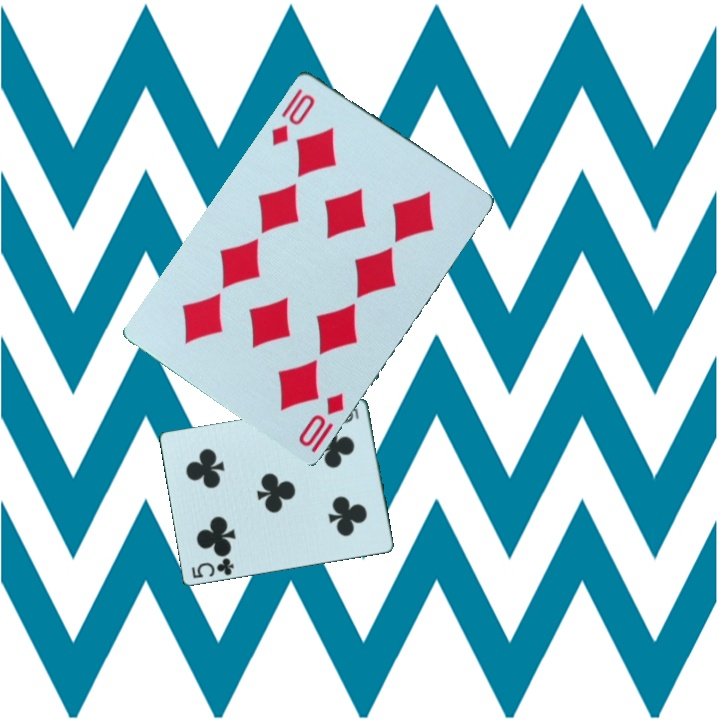10d: (294, 388, 348, 455), (267, 84, 318, 149)
5c: (188, 554, 237, 581)
